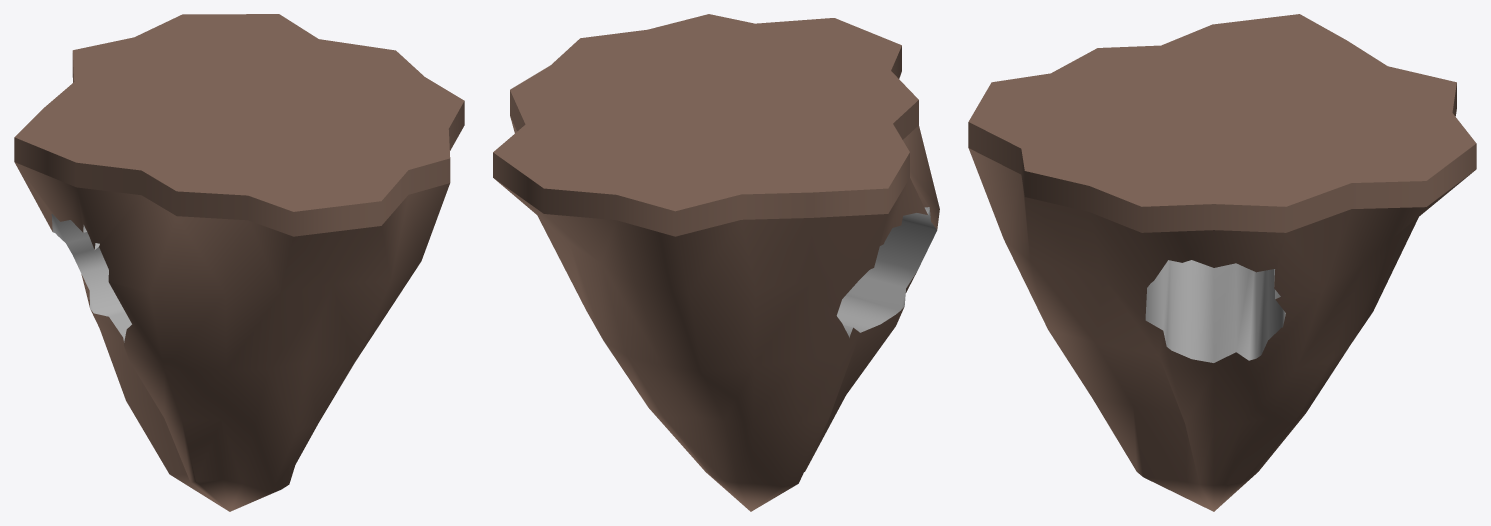
File: Hole island.fbx
3 renders of one model, left to right at view 1: azimuth 30°, elevation 25°; view 2: azimuth 150°, elevation 25°; view 3: azimuth 270°, elevation 25°, orthographic. The views are drawn at different scales.
Visible parts, largest first — view 1: pCone3; view 2: pCone3; view 3: pCone3.
Boxes of the visible parts, x1,y1,x2,y2 form: pCone3: (14,14,464,511); pCone3: (493,14,939,511); pCone3: (968,14,1476,511).
Bounding box in the file's own units: 2.79 × 2.76 × 3.11.
